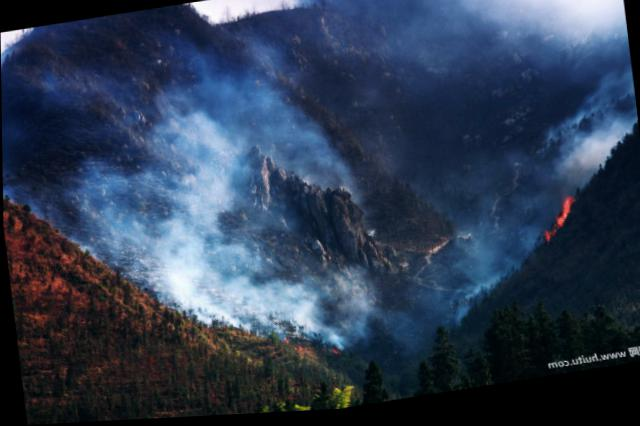fire: (561, 203, 573, 224), (553, 220, 566, 232), (544, 235, 557, 245)
